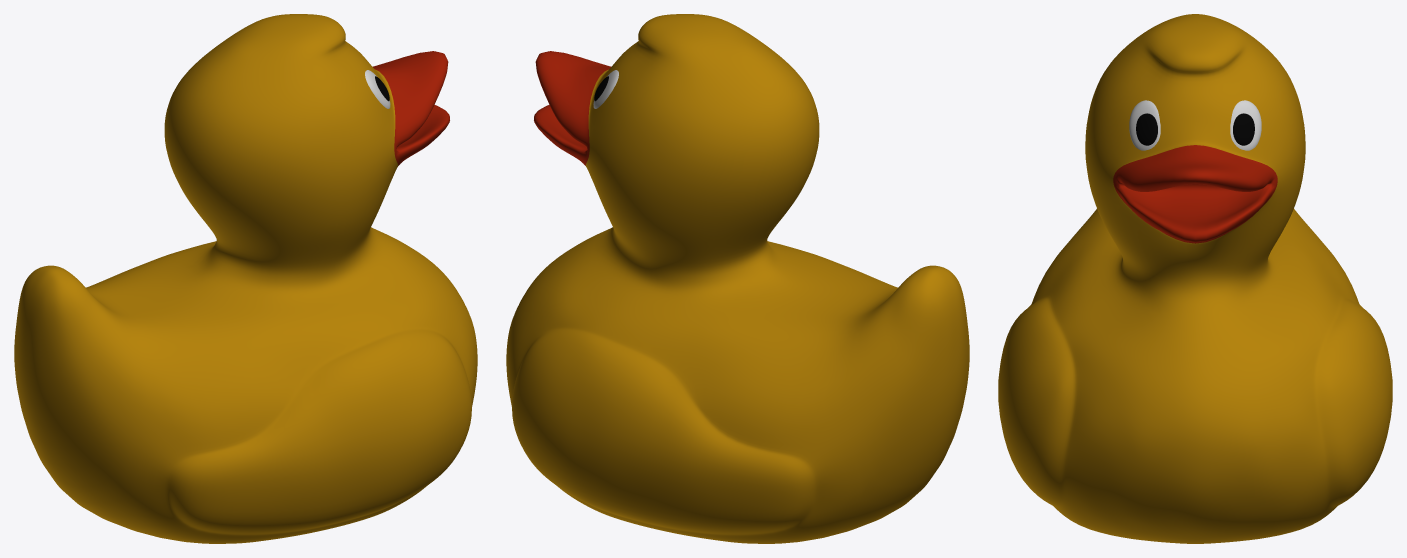
File: Duck.obj
3 renders of one model, left to right at view 1: azimuth 30°, elevation 25°; view 2: azimuth 150°, elevation 25°; view 3: azimuth 270°, elevation 25°, orthographic. The views are drawn at different scales.
Visible parts, largest first — view 1: Duck001; view 2: Duck001; view 3: Duck001.
Boxes of the visible parts, x1=… form: Duck001: x1=14, y1=14, x2=477, y2=543; Duck001: x1=506, y1=14, x2=969, y2=543; Duck001: x1=998, y1=14, x2=1392, y2=543.
Size of the model in its own units: 0.1352 by 0.1394 by 0.1033.
